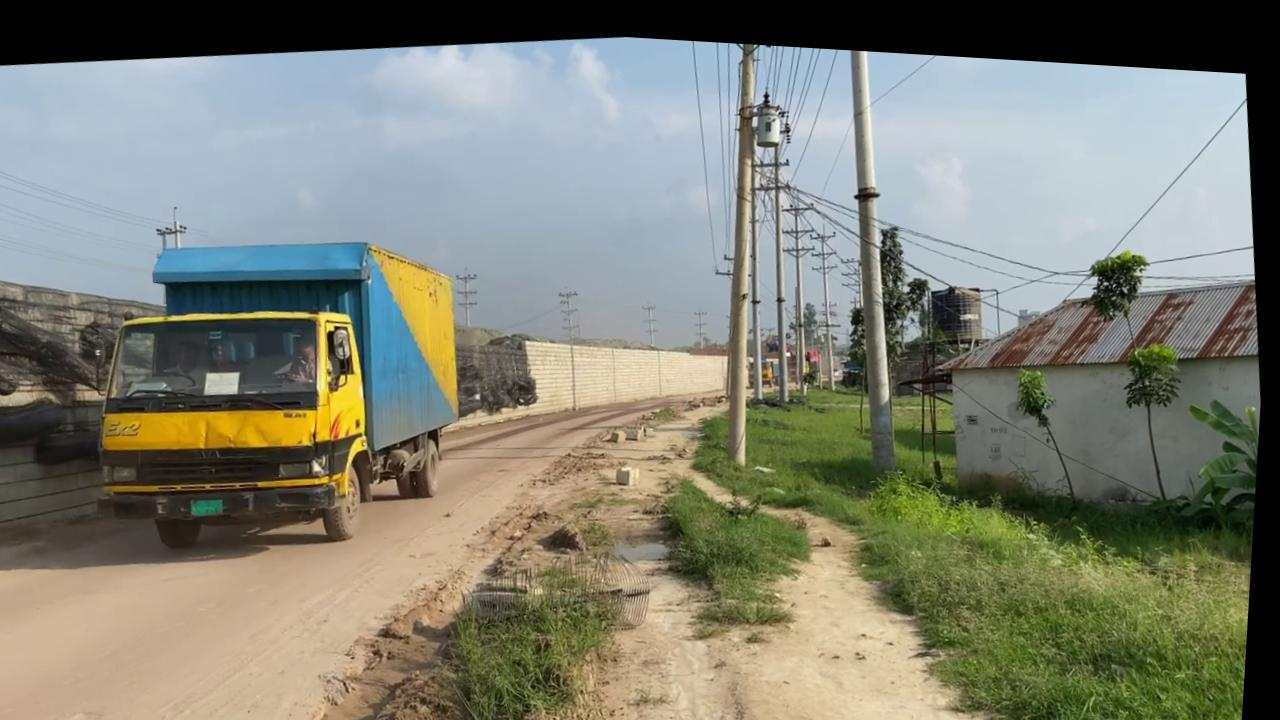Garbage: (452, 309, 547, 414)
Muddy road: (0, 341, 767, 720)
Pole: (687, 33, 801, 459), (825, 39, 921, 464)
Traffic-sign: (835, 207, 945, 386), (1115, 322, 1200, 492)
Tree: (74, 209, 487, 568), (749, 344, 781, 380)
